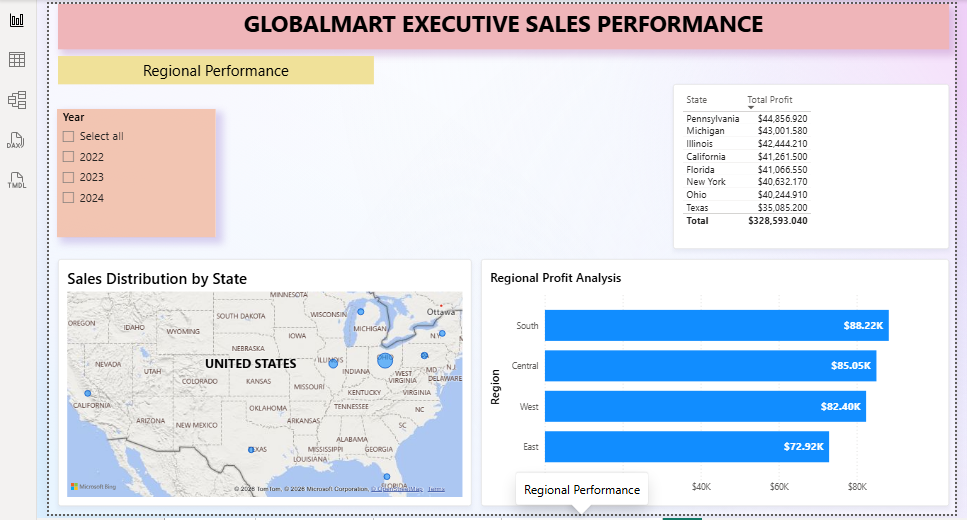

The page's visual inventory and layout, read from the dashboard file:
{"tool":"powerbi","page":{"name":"Regional Performance","canvas":[1280,720],"ordinal":3},"visuals":[{"type":"map","title":"Sales Distribution by State","fields":{"Size":["Sum(Sales Fact Table.Sales)"],"Category":["Orders Table.State"]},"box":[12.7,360,584.5,348.7],"z":0},{"type":"clusteredBarChart","title":"Regional Profit Analysis","fields":{"Category":["Region table.Region"],"Y":["Sales Fact Table.Total Profit"]},"box":[609.9,360,660.7,348.7],"z":1},{"type":"slicer","fields":{"Values":["DATE TABLE.Year"]},"box":[11.3,148.2,224.5,180.7],"z":2},{"type":"textbox","box":[12.7,0,1257.9,63.5],"z":3},{"type":"textbox","box":[12.7,73.4,446.1,39.5],"z":4},{"type":"tableEx","fields":{"Values":["Orders Table.State","Sales Fact Table.Total Profit"]},"box":[880.9,112.9,389.6,232.9],"z":5}]}

Visuals, with their boxes on the page's 1280x720 design canvas (x1, y1, x2, y2). These are canvas units, not pixel positions in the 967x520 screenshot, which may show the page scaled, cropped or inside an application window:
"Sales Distribution by State" map: {"x1": 13, "y1": 360, "x2": 597, "y2": 709}
"Regional Profit Analysis" clusteredBarChart: {"x1": 610, "y1": 360, "x2": 1271, "y2": 709}
slicer - DATE TABLE.Year: {"x1": 11, "y1": 148, "x2": 236, "y2": 329}
textbox: {"x1": 13, "y1": 0, "x2": 1271, "y2": 64}
textbox: {"x1": 13, "y1": 73, "x2": 459, "y2": 113}
tableEx - Orders Table.State x Sales Fact Table.Total Profit: {"x1": 881, "y1": 113, "x2": 1270, "y2": 346}
